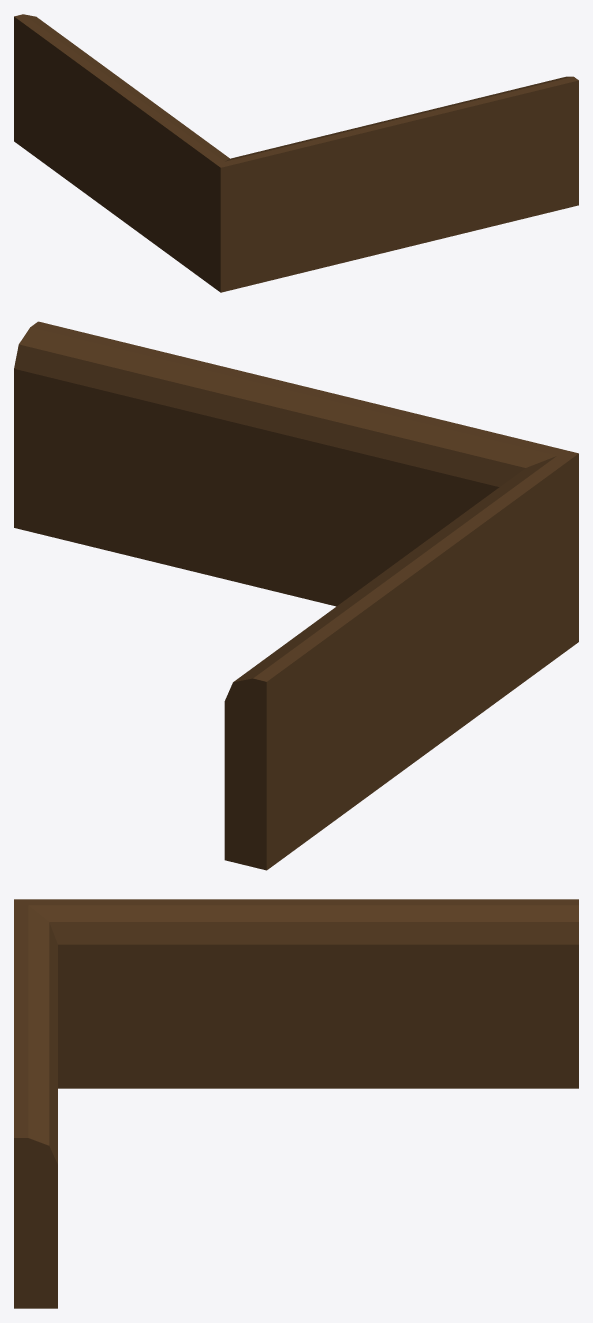
Rendered from SkirtingCornerInner.fbx.
3 views of the same model, one above another, from view 1: azimuth 30°, elevation 25°; view 2: azimuth 150°, elevation 25°; view 3: azimuth 270°, elevation 25° (orthographic). The views are drawn at different scales.
Parts seen in each view (by area): view 1: CornerWall; view 2: CornerWall; view 3: CornerWall.
Part boxes in pixels (left/top/right/bottom): CornerWall: left=14, top=14, right=578, bottom=292; CornerWall: left=14, top=321, right=578, bottom=870; CornerWall: left=14, top=899, right=578, bottom=1308.
Bounding box in the file's own units: 90 × 30 × 90.
